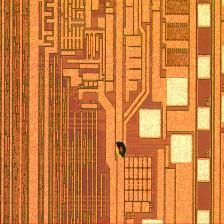PARTICLE: (113, 140, 133, 160)
